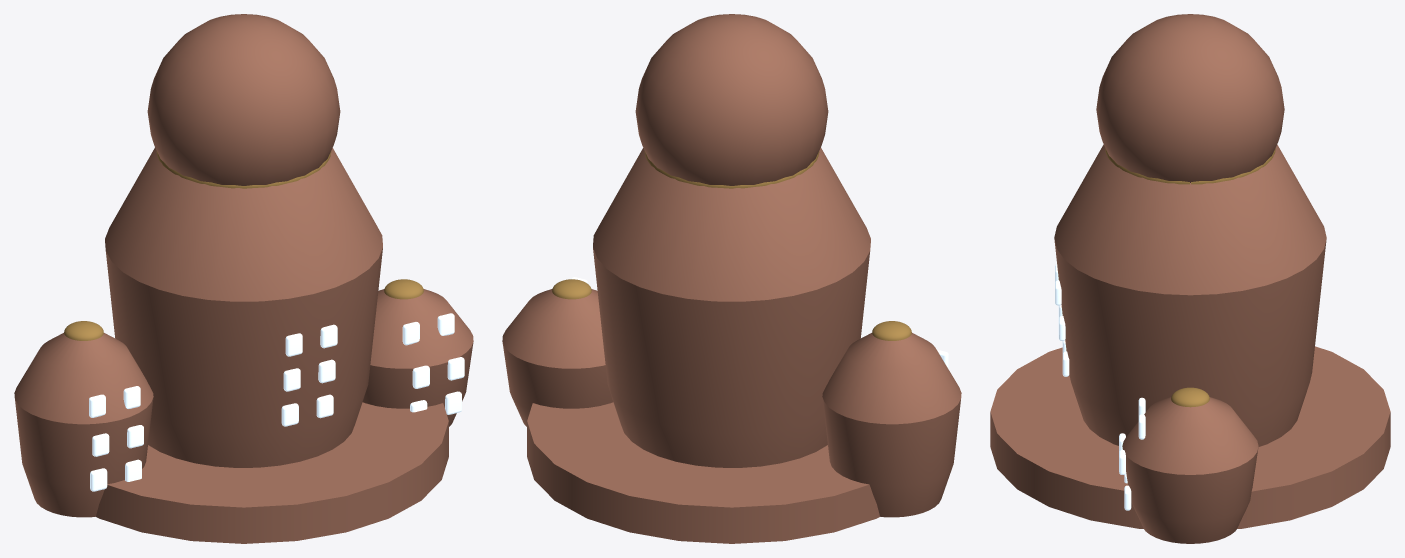
The picture shows the model from 3 angles, left to right: view 1: azimuth 30°, elevation 25°; view 2: azimuth 150°, elevation 25°; view 3: azimuth 270°, elevation 25°; orthographic projection. The views are drawn at different scales.
Parts seen in each view (by area): view 1: Bulb shaped chamber, Foundation drum, Stacked rounded vessel, Bulb shaped chamber.002, Bulb shaped chamber.001, Tower crown.001, Tower crown.002, Rounded vessel collar; view 2: Bulb shaped chamber, Foundation drum, Stacked rounded vessel, Bulb shaped chamber.002, Bulb shaped chamber.001, Tower crown.001, Tower crown.002, Rounded vessel collar; view 3: Bulb shaped chamber, Foundation drum, Stacked rounded vessel, Bulb shaped chamber.001, Tower crown.001, Rounded vessel collar.
Part boxes in pixels (x1=…): Bulb shaped chamber: x1=105, y1=147, x2=382, y2=467; Foundation drum: x1=96, y1=402, x2=448, y2=543; Stacked rounded vessel: x1=147, y1=14, x2=340, y2=185; Bulb shaped chamber.002: x1=14, y1=333, x2=153, y2=517; Bulb shaped chamber.001: x1=362, y1=289, x2=473, y2=426; Tower crown.001: x1=384, y1=279, x2=423, y2=299; Tower crown.002: x1=64, y1=321, x2=103, y2=340; Rounded vessel collar: x1=156, y1=151, x2=331, y2=188; Bulb shaped chamber: x1=593, y1=147, x2=870, y2=467; Foundation drum: x1=527, y1=402, x2=879, y2=543; Stacked rounded vessel: x1=635, y1=14, x2=828, y2=185; Bulb shaped chamber.002: x1=822, y1=333, x2=961, y2=517; Bulb shaped chamber.001: x1=502, y1=289, x2=613, y2=426; Tower crown.001: x1=552, y1=279, x2=591, y2=299; Tower crown.002: x1=872, y1=321, x2=911, y2=340; Rounded vessel collar: x1=644, y1=151, x2=819, y2=188; Bulb shaped chamber: x1=1054, y1=144, x2=1326, y2=447; Foundation drum: x1=990, y1=346, x2=1390, y2=528; Stacked rounded vessel: x1=1096, y1=14, x2=1284, y2=182; Bulb shaped chamber.001: x1=1122, y1=397, x2=1258, y2=543; Tower crown.001: x1=1171, y1=387, x2=1209, y2=407; Rounded vessel collar: x1=1105, y1=148, x2=1275, y2=184.
Size of the model in its own units: 2.53 by 2.39 by 2.04.
